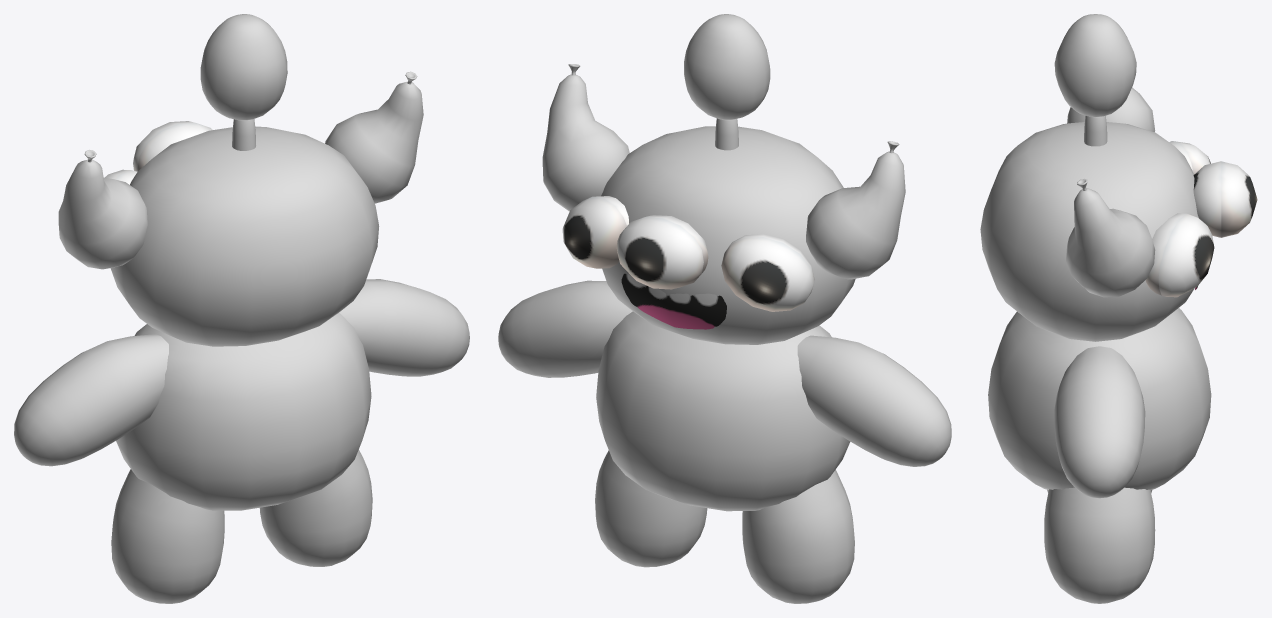
File: quaito5.fbx
The picture shows the model from 3 angles, left to right: view 1: azimuth 30°, elevation 25°; view 2: azimuth 150°, elevation 25°; view 3: azimuth 270°, elevation 25°; orthographic projection. The views are drawn at different scales.
Parts seen in each view (by area): view 1: Cylinder.011, Cylinder.020, quaito_05; view 2: Cylinder.011, quaito_05, Cylinder.020; view 3: Cylinder.011, quaito_05, Cylinder.020.
Boxes of the visible parts, <box> form: Cylinder.011: <box>14,71,469,603</box>; Cylinder.020: <box>200,14,287,150</box>; quaito_05: <box>105,121,212,184</box>; Cylinder.011: <box>498,64,951,603</box>; quaito_05: <box>562,196,814,329</box>; Cylinder.020: <box>684,14,770,150</box>; Cylinder.011: <box>980,87,1211,603</box>; quaito_05: <box>1145,141,1257,297</box>; Cylinder.020: <box>1054,14,1136,146</box>.
Size of the model in its own units: 277 by 333 by 154.
Materials: 1 (1 with a texture image).
